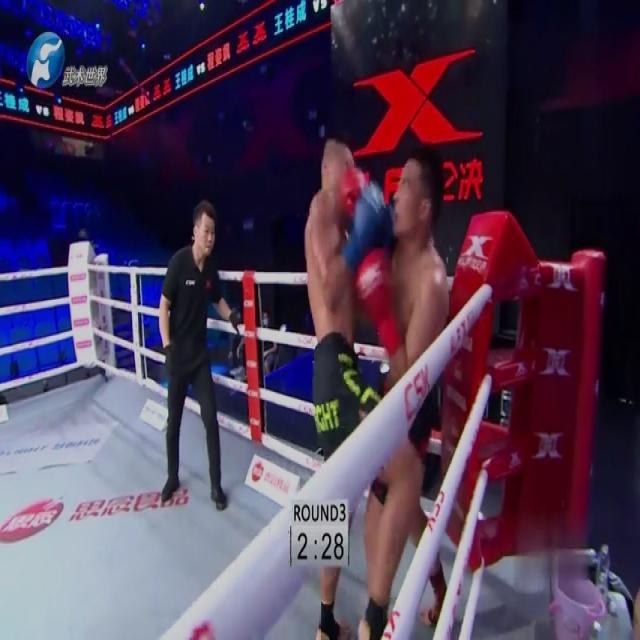fight: (291, 136, 456, 639)
non-fight: (160, 202, 237, 511)
